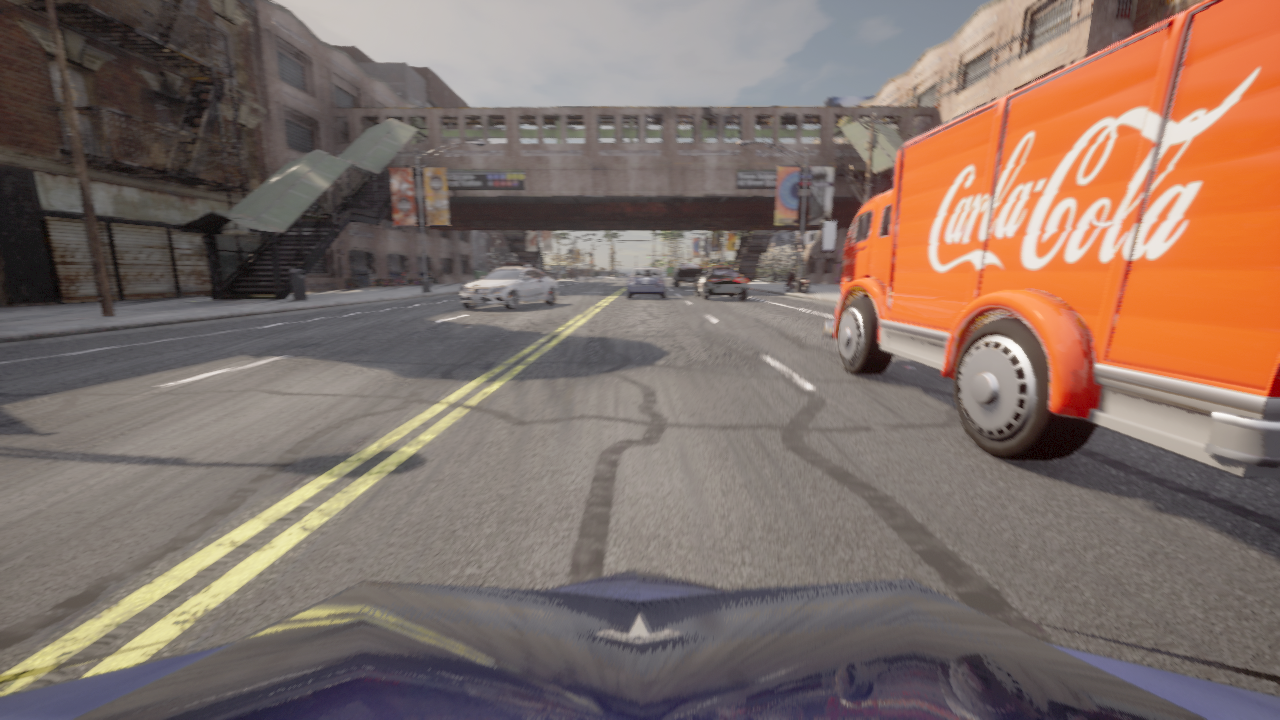cyclist: (819, 0, 1279, 476), (0, 569, 1279, 719), (459, 267, 557, 309), (695, 266, 747, 300), (627, 268, 665, 298), (671, 263, 702, 287), (785, 270, 809, 292), (501, 262, 531, 267), (546, 274, 557, 283), (703, 271, 705, 273), (548, 270, 551, 271)
